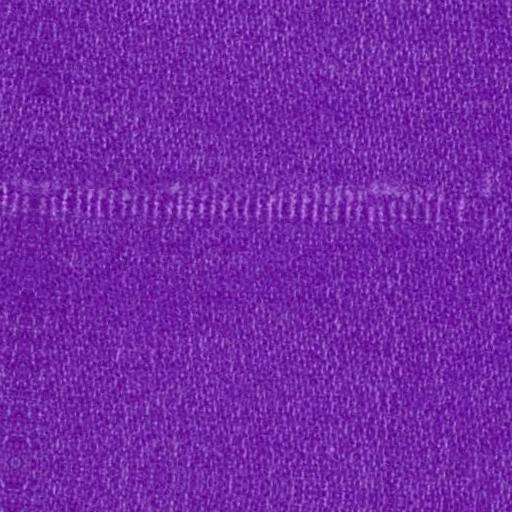slub: (2, 174, 459, 242)
